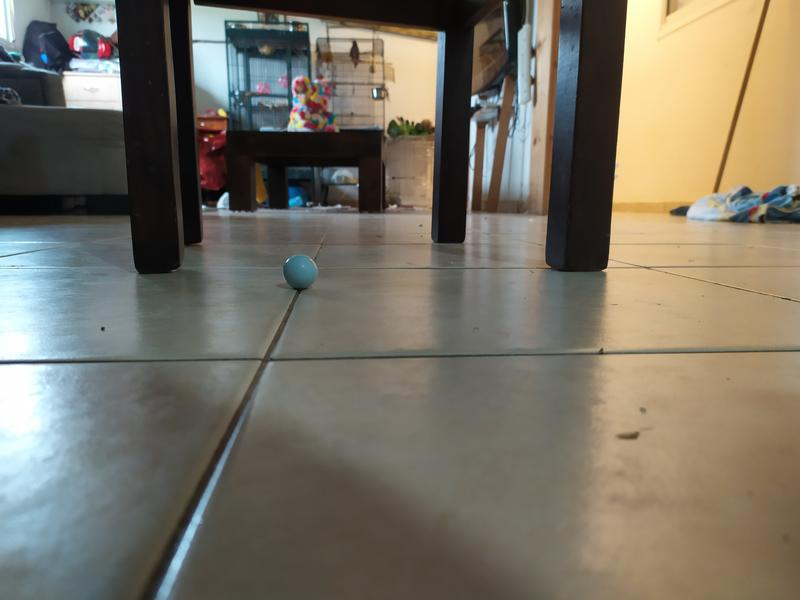Warning: (281, 252, 320, 291)
